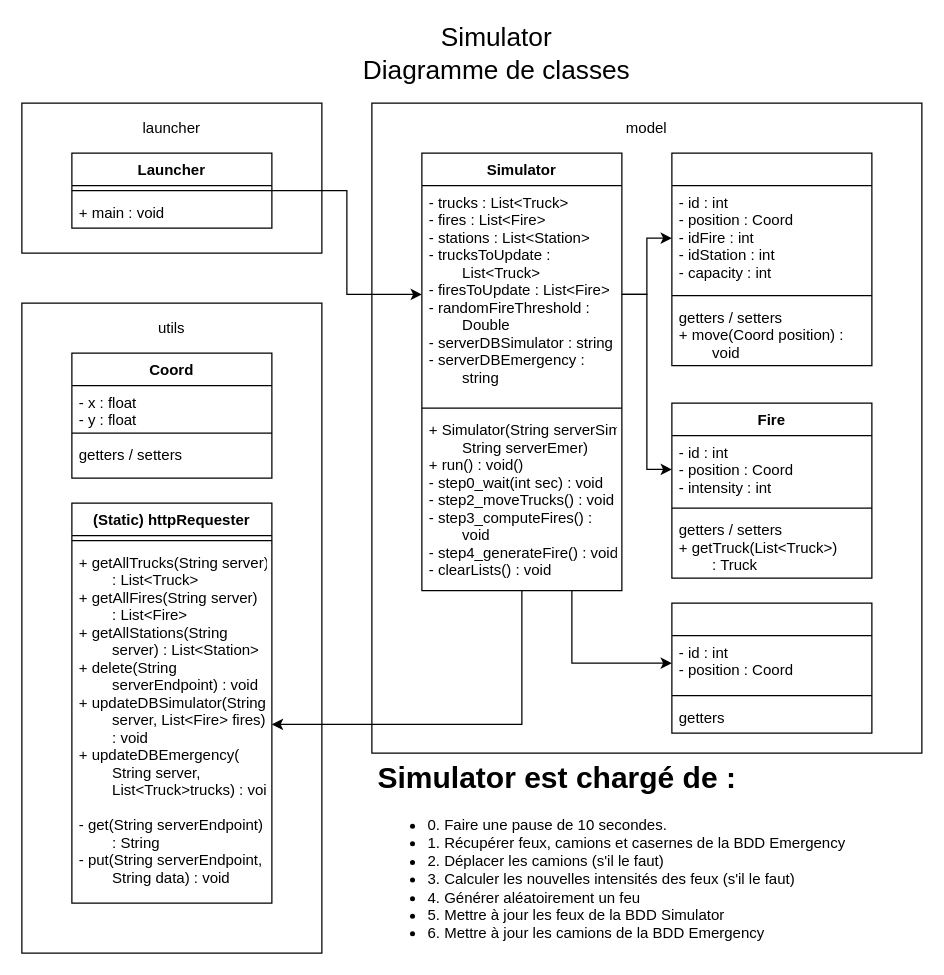
Some shapes in this 944 by 975 pixel diagram are drawn without their labels. Each missing label, with the box of its shape:
Station: (671, 602, 872, 733)
Truck: (671, 152, 872, 366)
